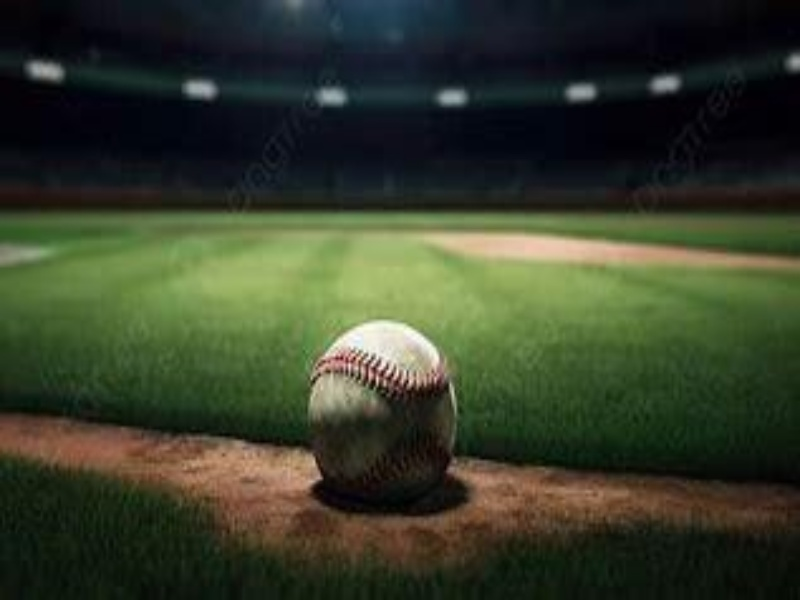baseball: (307, 321, 461, 503)
